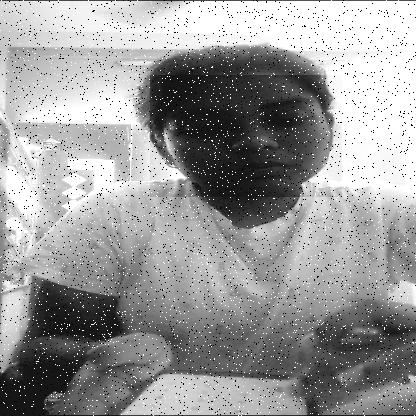Normal: (150, 75, 342, 197)
